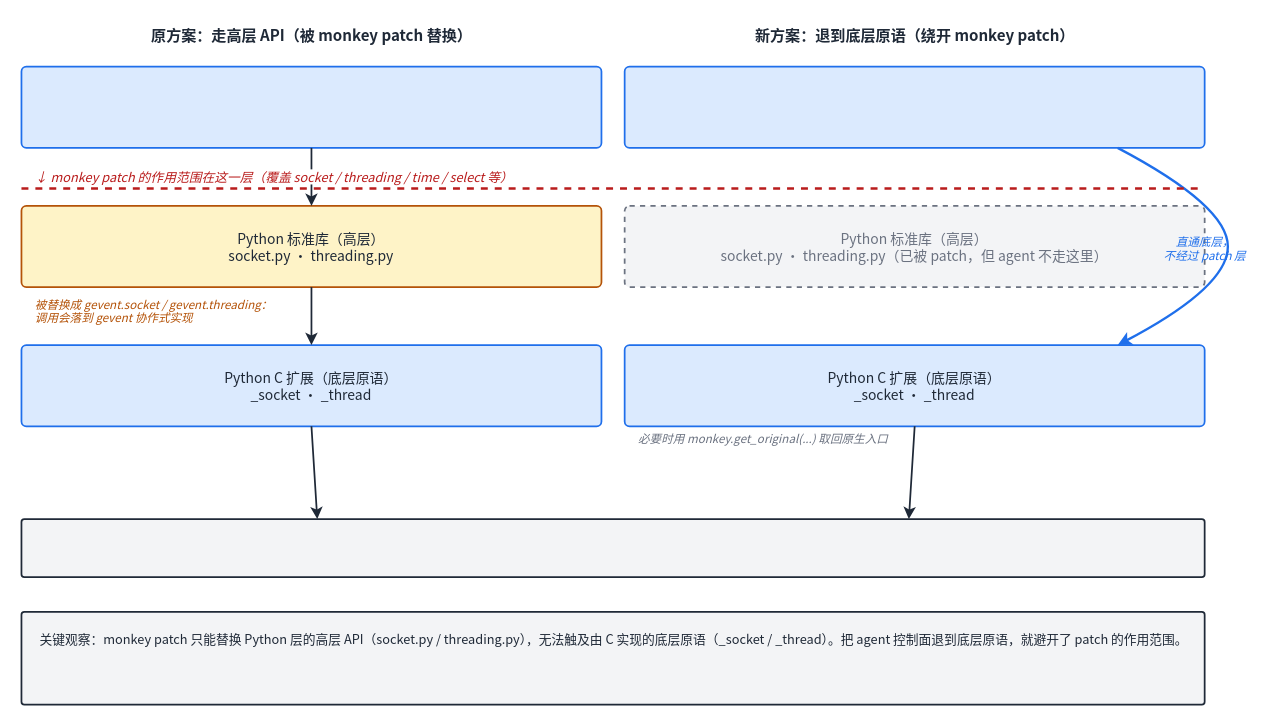
Some shapes in this 1282 by 725 pixel diagram are drawn without their labels. Each missing label, with the box of its shape:
agent 代码（控制面） _socket.socket(...) · _thread.start_new_thread(...): (623, 65, 1205, 148)
Linux 内核（socket、threads、syscalls）: (20, 518, 1205, 577)
业务 / agent 代码 socket.socket(...) · threading.Thread(...): (20, 65, 602, 148)
